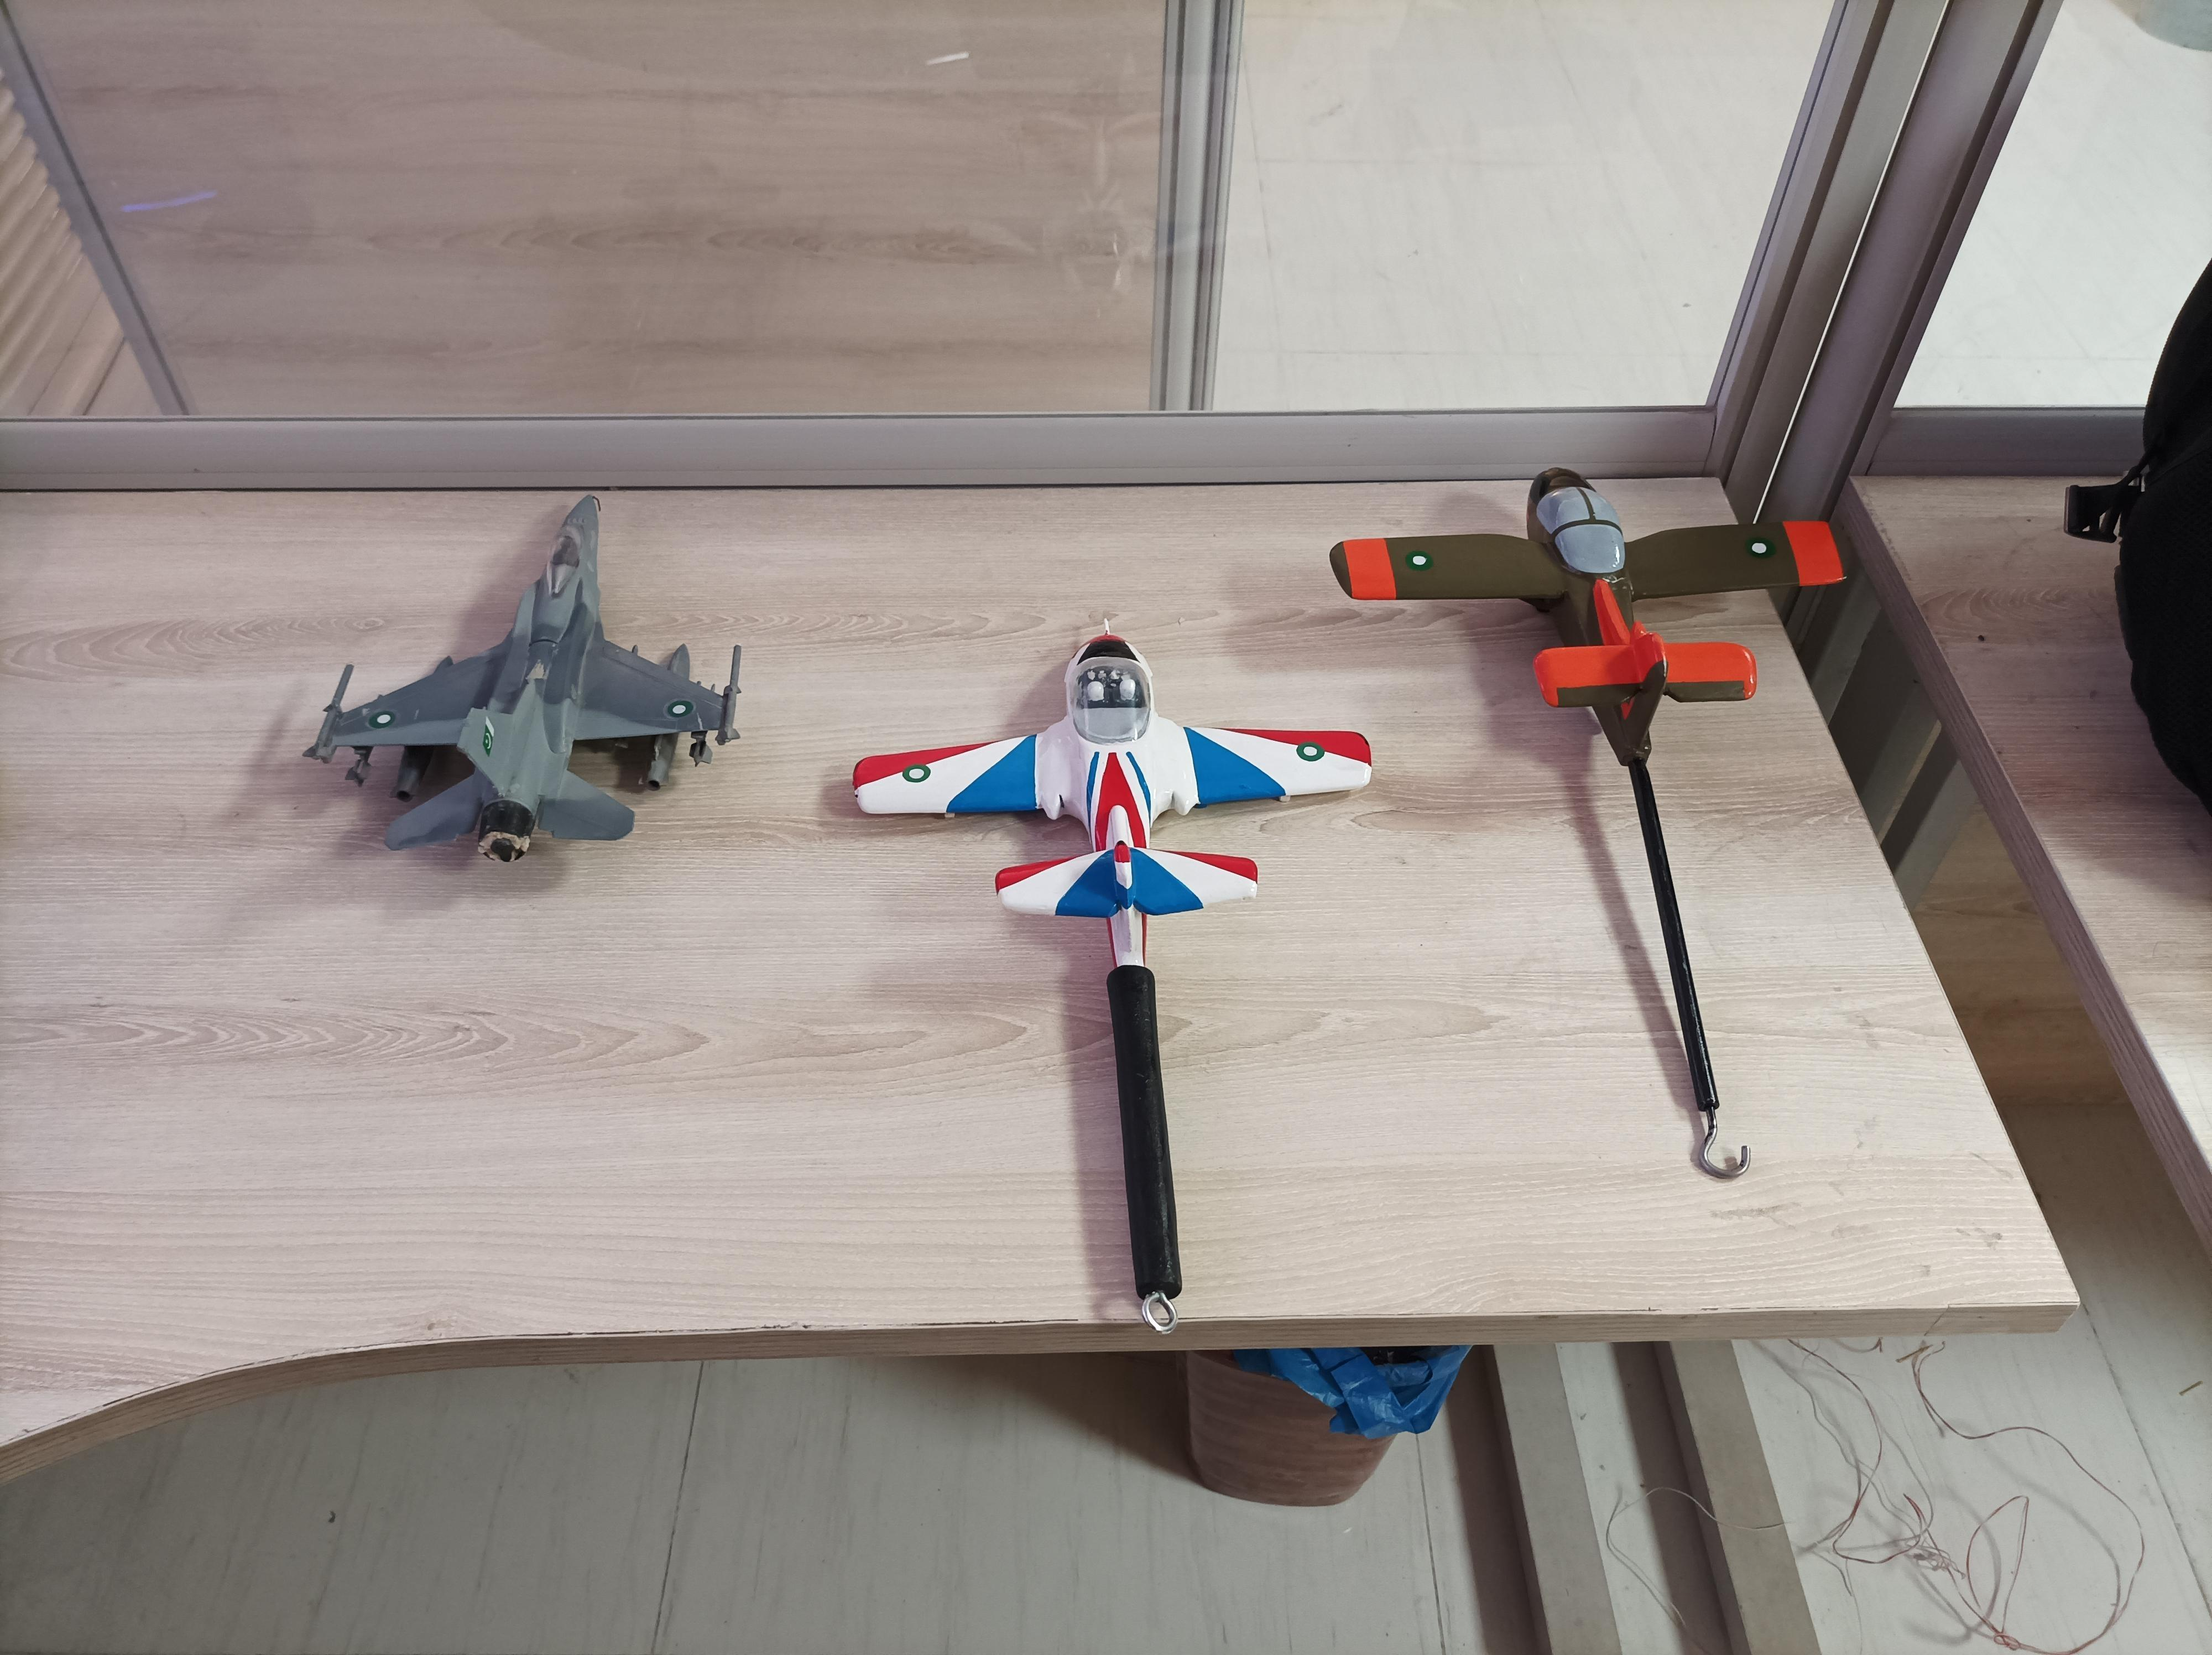Airplane: (822, 603, 1397, 942), (295, 476, 766, 876), (1308, 426, 1870, 754)
